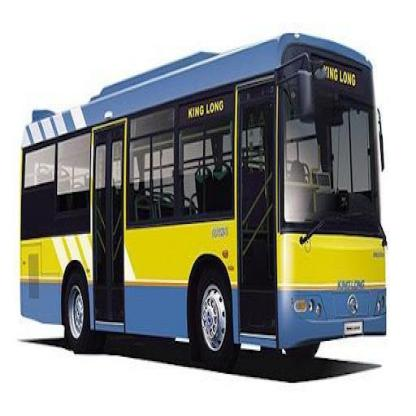Bus: (19, 39, 392, 400)
